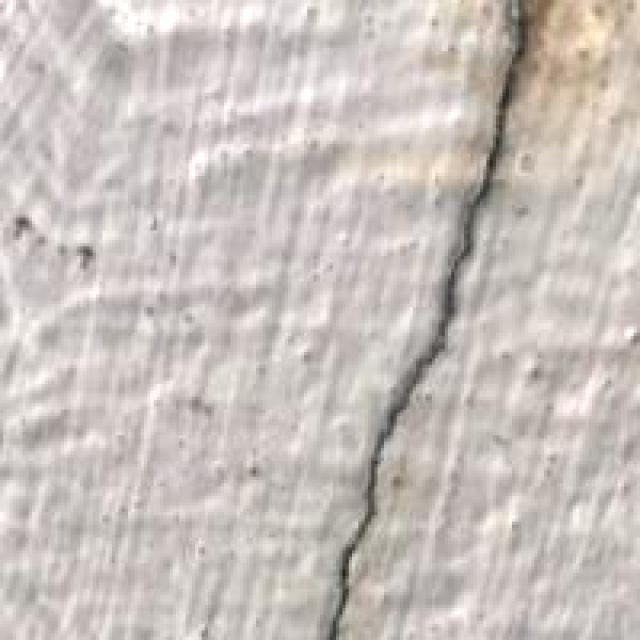crack: (298, 0, 544, 640)
